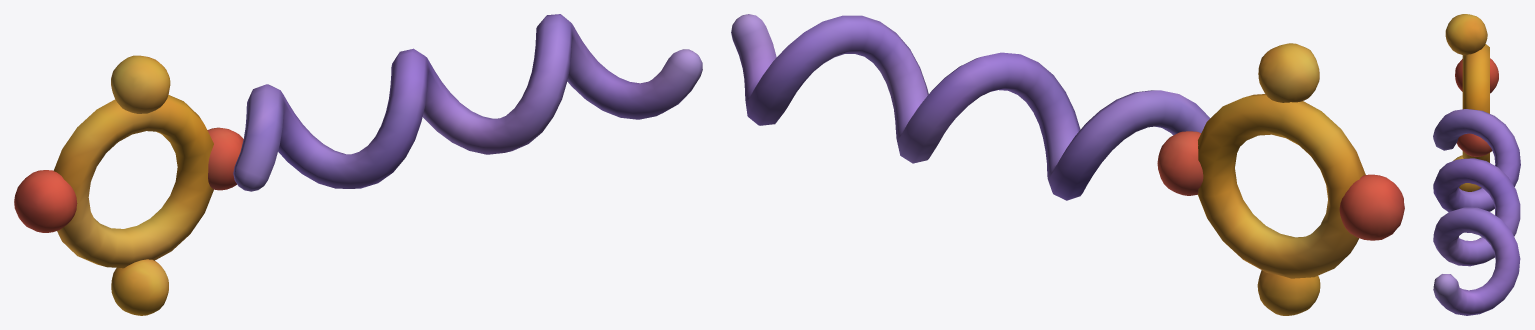
Rendered from ubiquinone.glb.
The picture shows the model from 3 angles, left to right: view 1: azimuth 30°, elevation 25°; view 2: azimuth 150°, elevation 25°; view 3: azimuth 270°, elevation 25°; orthographic projection. The views are drawn at different scales.
Visible parts, largest first — view 1: ubiquinone-tail, ubiquinone-head, ubiquinone-oxygens; view 2: ubiquinone-tail, ubiquinone-head, ubiquinone-oxygens; view 3: ubiquinone-tail, ubiquinone-head, ubiquinone-oxygens.
Part boxes in pixels (<box>): ubiquinone-tail: <box>233,14,702,191</box>; ubiquinone-head: <box>53,55,213,315</box>; ubiquinone-oxygens: <box>14,127,243,232</box>; ubiquinone-tail: <box>731,14,1210,200</box>; ubiquinone-head: <box>1198,43,1365,315</box>; ubiquinone-oxygens: <box>1157,131,1404,240</box>; ubiquinone-tail: <box>1433,109,1520,315</box>; ubiquinone-head: <box>1445,14,1489,191</box>; ubiquinone-oxygens: <box>1455,58,1498,156</box>.
Size of what is drawn, in the model's own units: 2.05 by 0.7598 by 0.3389.
